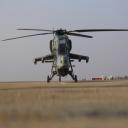helicopter: (7, 19, 121, 86)
